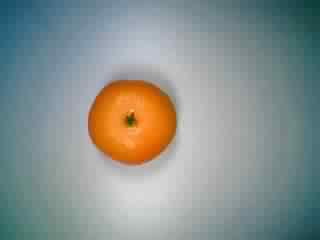orange: (81, 73, 182, 168)
